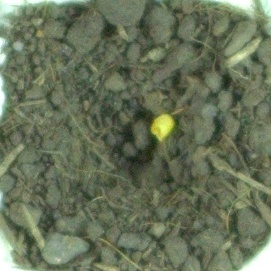chilli seed: (148, 110, 176, 143)
